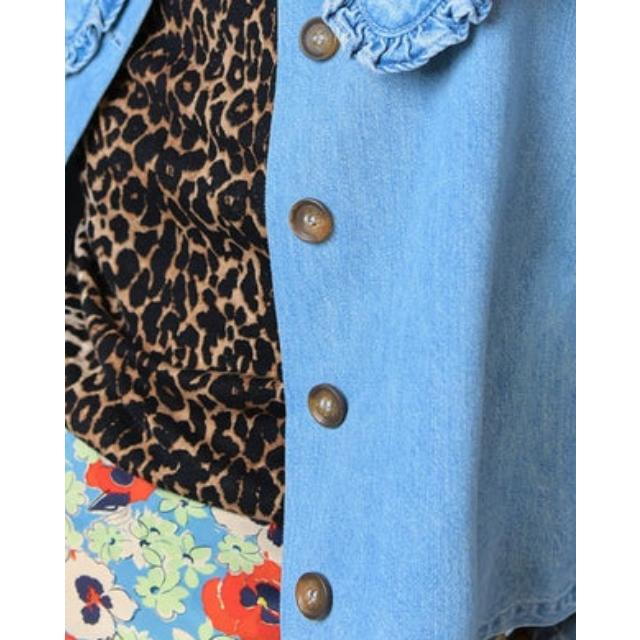denim: (276, 0, 576, 640)
